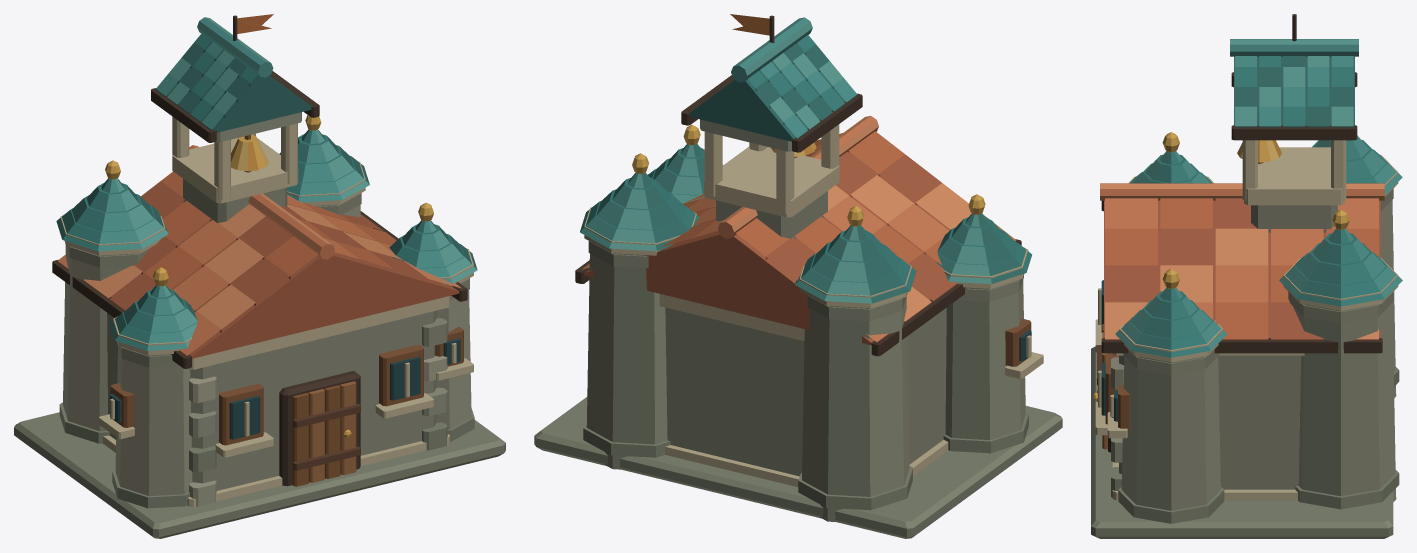
The model's file is castle-hall.glb.
The picture shows the model from 3 angles, left to right: view 1: azimuth 30°, elevation 25°; view 2: azimuth 150°, elevation 25°; view 3: azimuth 270°, elevation 25°; orthographic projection. The views are drawn at different scales.
Visible parts, largest first — view 1: Castle_Hall; view 2: Castle_Hall; view 3: Castle_Hall.
Part boxes in pixels (x1,y1,x2,y2): Castle_Hall: (14, 14, 505, 538); Castle_Hall: (534, 14, 1062, 538); Castle_Hall: (1091, 14, 1402, 538).
Size of the model in its own units: 3.81 by 4.13 by 2.68.
